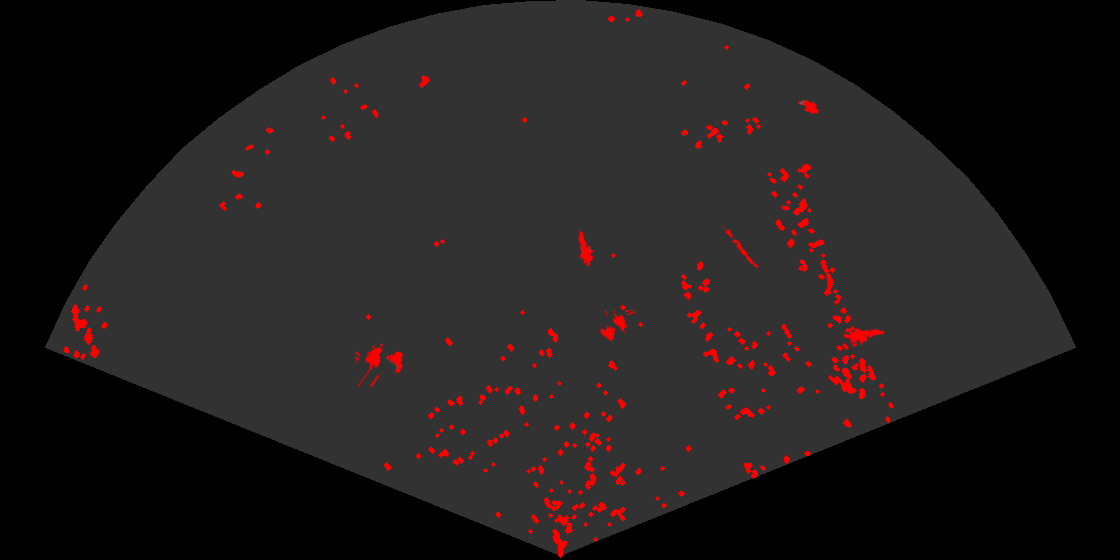AUV: (796, 98, 821, 116)
cage: (355, 341, 405, 387), (598, 310, 636, 343)
chain: (720, 225, 761, 273)
frogman: (844, 327, 885, 346), (577, 230, 596, 266)
